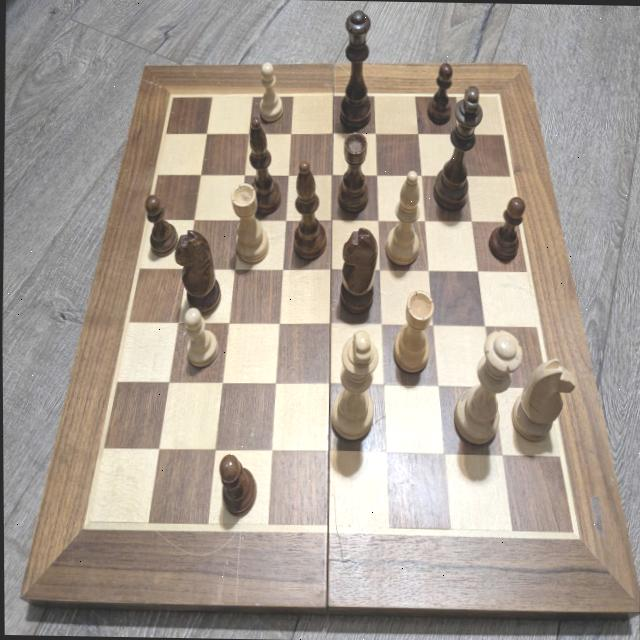black_bishop: (246, 115, 281, 214), (293, 162, 328, 260)
black_king: (432, 82, 483, 208)
black_knight: (174, 230, 221, 316), (339, 227, 377, 312)
black_pawn: (487, 193, 525, 262), (217, 454, 257, 516), (144, 193, 178, 254), (425, 61, 454, 123)
black_queen: (338, 9, 374, 130)
black_rook: (337, 129, 369, 208)
white_bishop: (384, 170, 422, 264)
white_king: (329, 326, 378, 438)
white_knight: (509, 357, 576, 442)
white_pawn: (183, 306, 217, 364), (257, 60, 283, 120)
white_queen: (450, 327, 525, 444)
white_rook: (392, 288, 434, 371), (229, 180, 269, 263)
